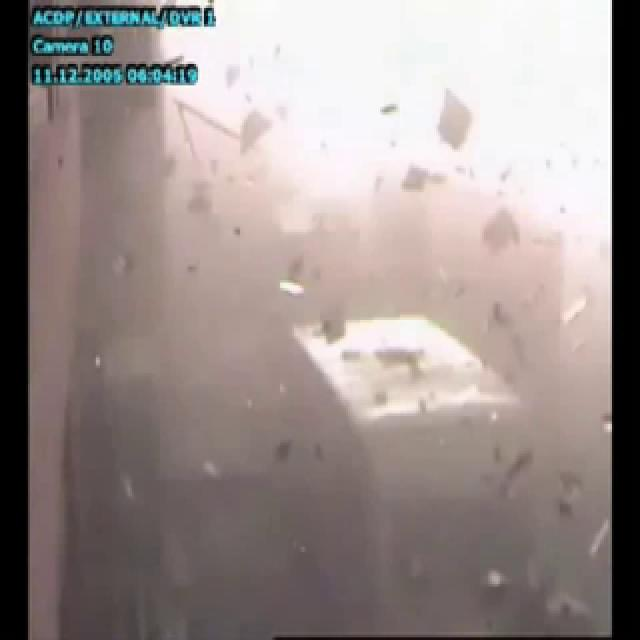explosion: (25, 0, 595, 606)
